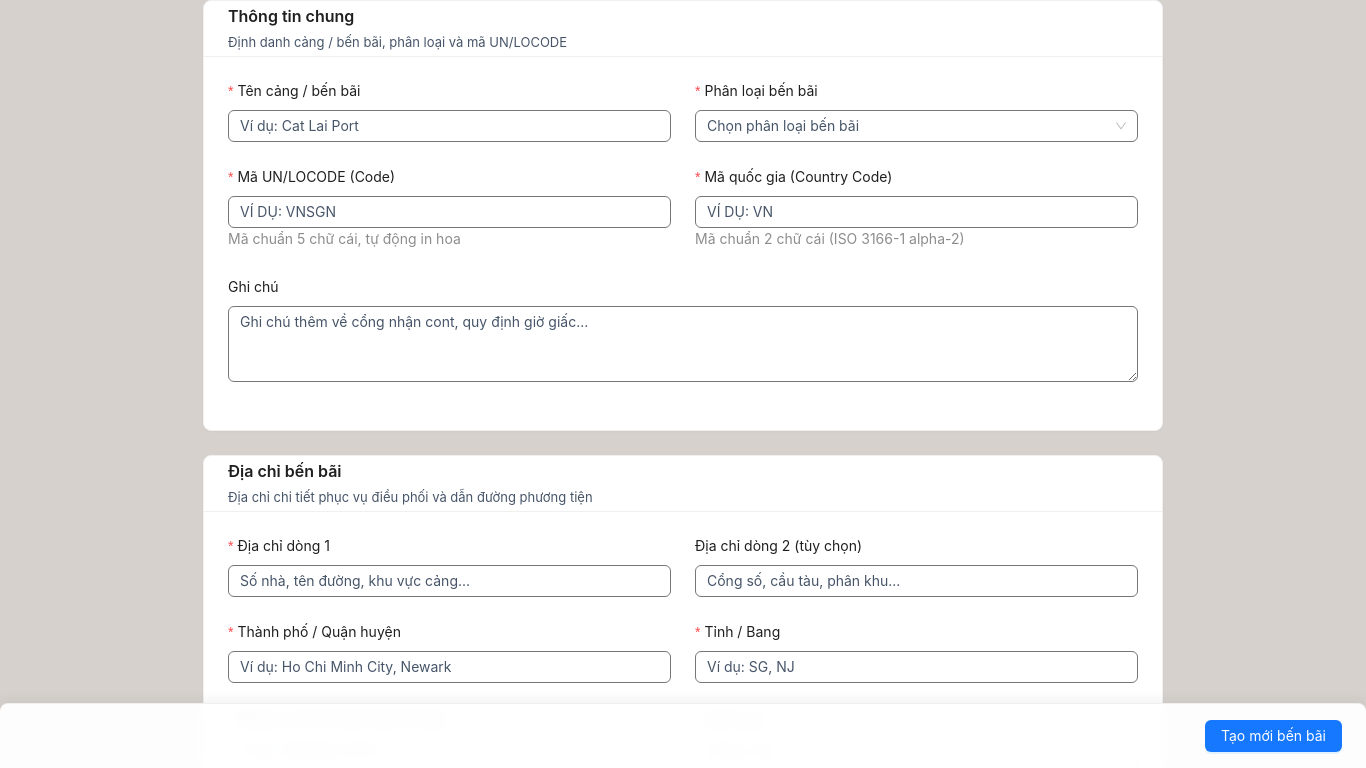
Test case: TerminalForm Component › báo lỗi khi mã UN/LOCODE không đúng 5 chữ cái và mã quốc gia không đúng 2 chữ cái
Step 1. Type "VN1" into the field labelled "Mã UN/LOCODE (Code)" → (450, 212), box [228,196,671,228]
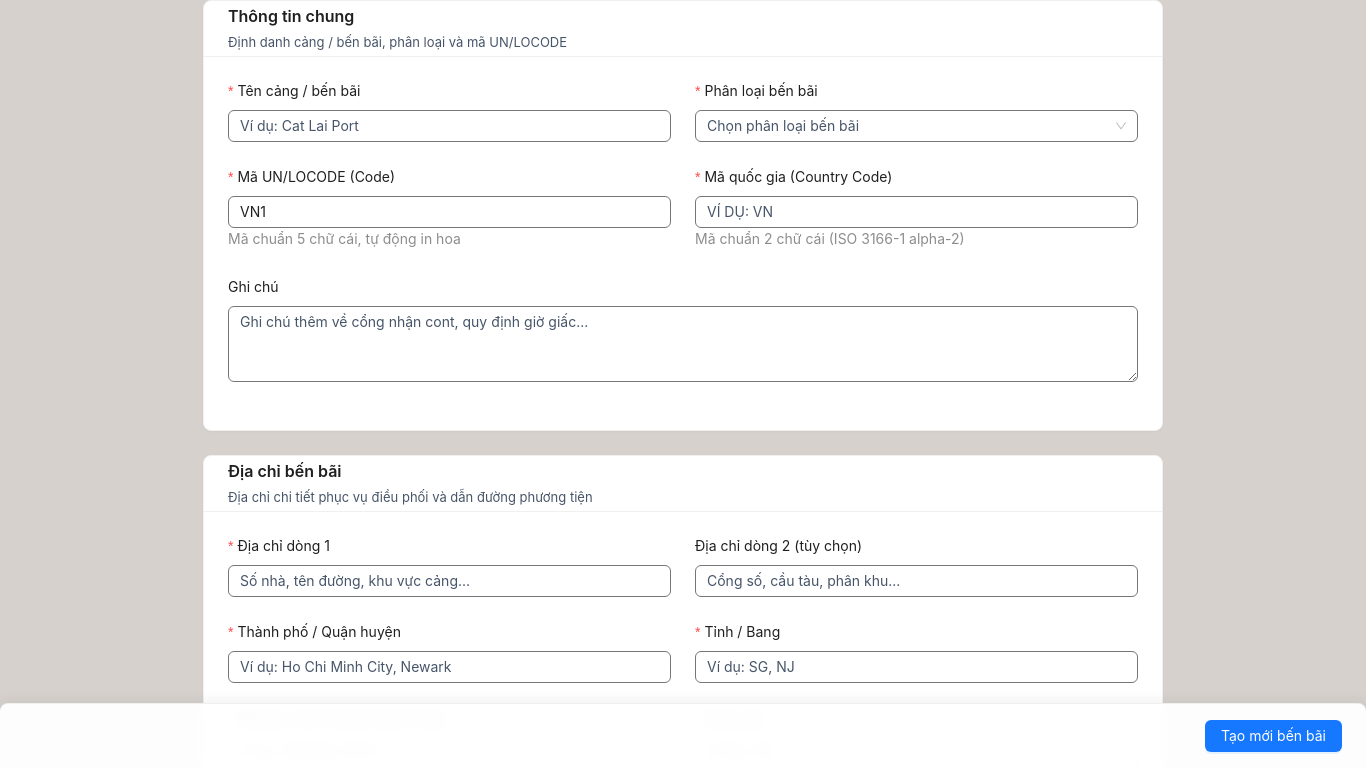
Step 2. Type "VNM" into the field labelled "Mã quốc gia (Country Code)" → (916, 212), box [695,196,1138,228]
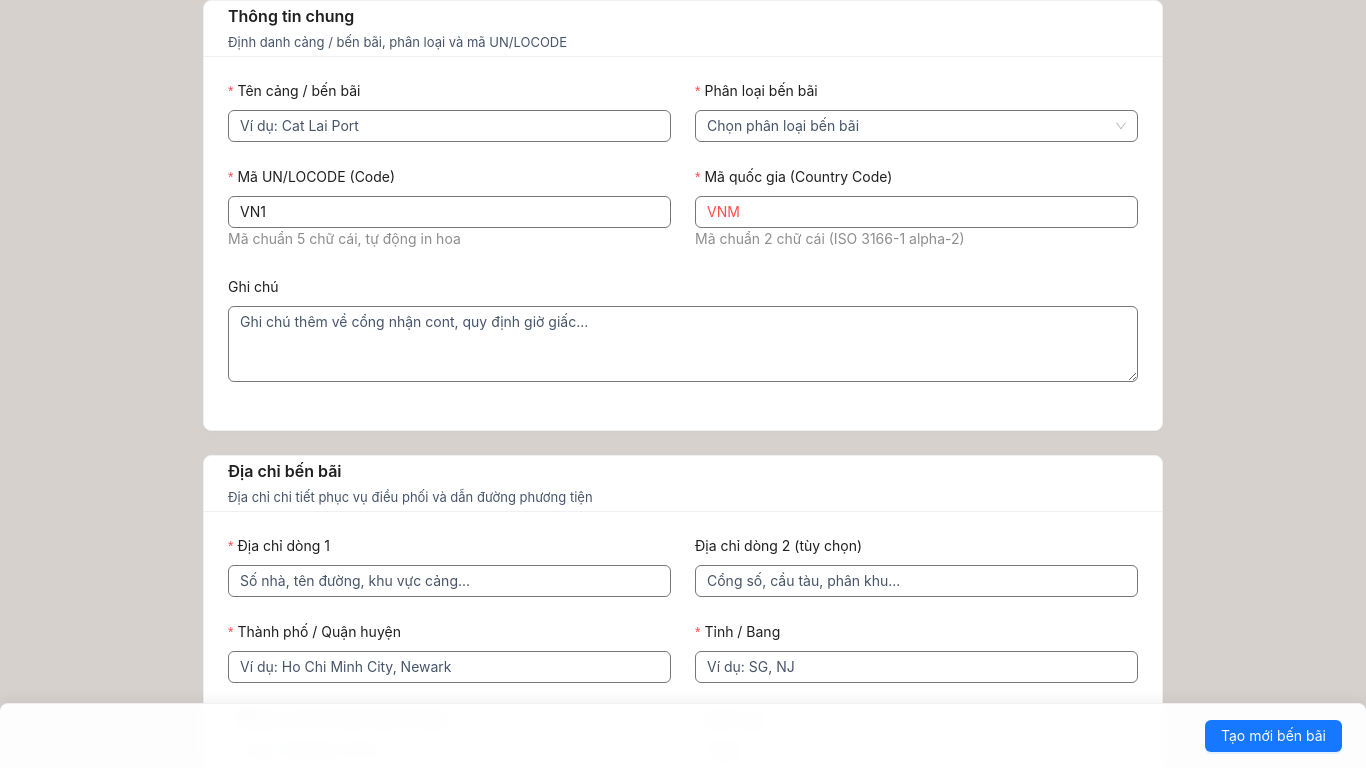
Step 3. Click the button "Tạo mới bến bãi" → (1273, 736), box [1205,720,1342,752]
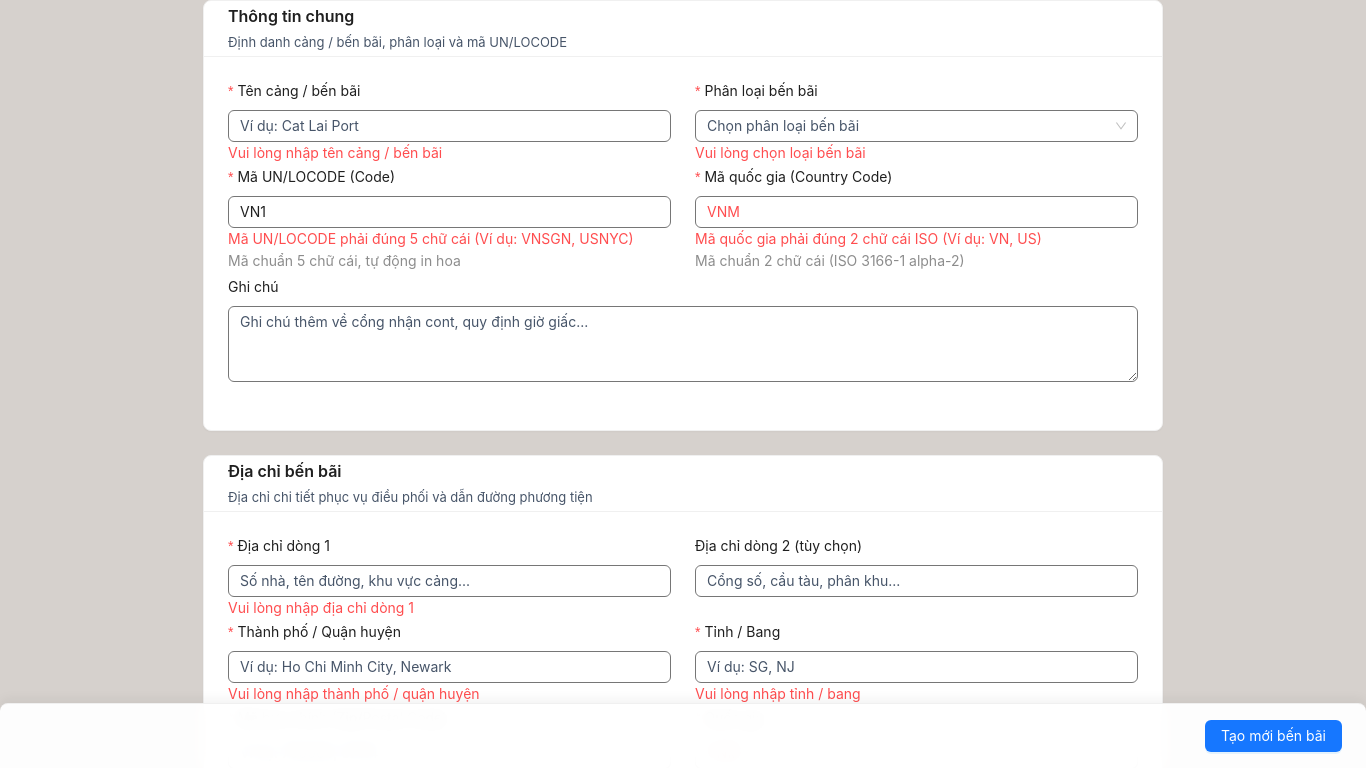
Expected: the text "Mã UN/LOCODE phải đúng 5 chữ cái (Ví dụ: VNSGN, USNYC)" is shown, [228,228,671,250]
Expected: the text "Mã quốc gia phải đúng 2 chữ cái ISO (Ví dụ: VN, US)" is shown, [695,230,1042,247]
